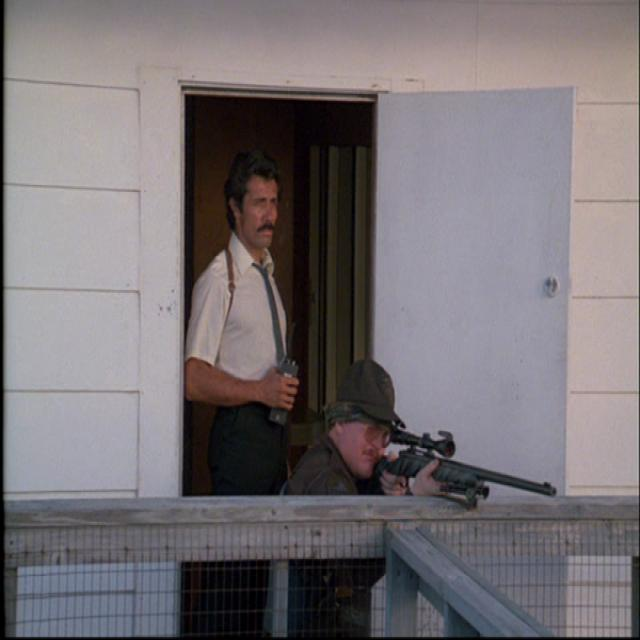rifle: (389, 424, 563, 512)
